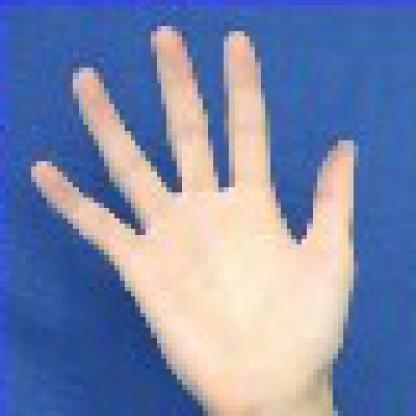five: (24, 18, 378, 409)
